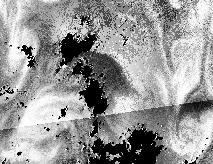CE: (167, 121, 207, 157)
